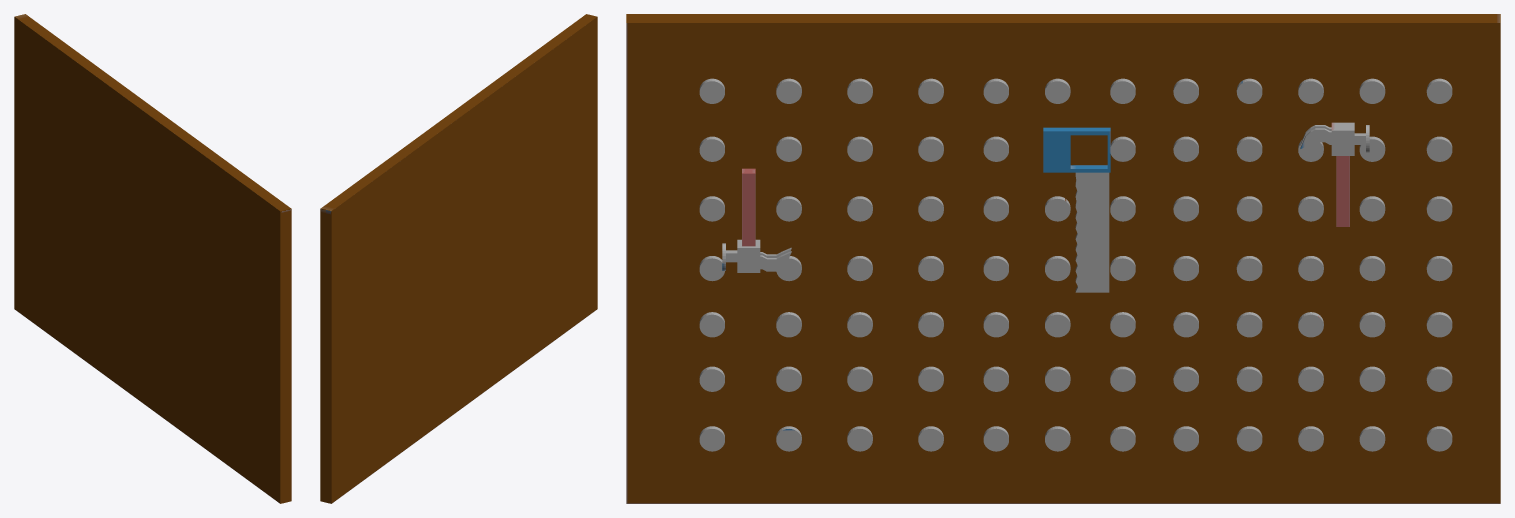
Rendered from TablaHerramientasPared2.obj.
The picture shows the model from 3 angles, left to right: view 1: azimuth 30°, elevation 25°; view 2: azimuth 150°, elevation 25°; view 3: azimuth 270°, elevation 25°; orthographic projection. The views are drawn at different scales.
Visible parts, largest first — view 1: Cube.004_Cube.011; view 2: Cube.004_Cube.011; view 3: Cube.004_Cube.011.
Boxes of the visible parts, left/top/right/bottom form: Cube.004_Cube.011: left=14, top=14, right=291, bottom=503; Cube.004_Cube.011: left=320, top=14, right=597, bottom=503; Cube.004_Cube.011: left=626, top=14, right=1500, bottom=503.
Bounding box in the file's own units: 1.16 × 14.9 × 24.55.
Materials: 1 (1 with a texture image).
